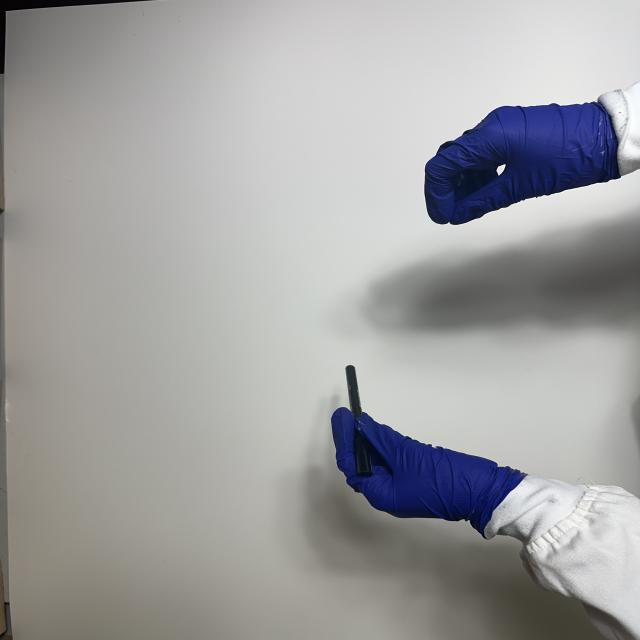gloves_contaminated: (332, 407, 526, 536), (425, 103, 620, 225)
